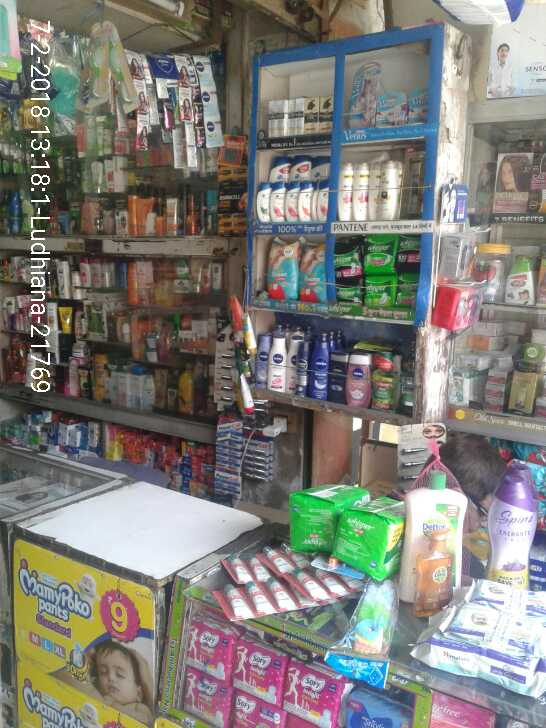venus: (350, 63, 375, 131), (377, 90, 406, 124), (406, 87, 429, 124)
